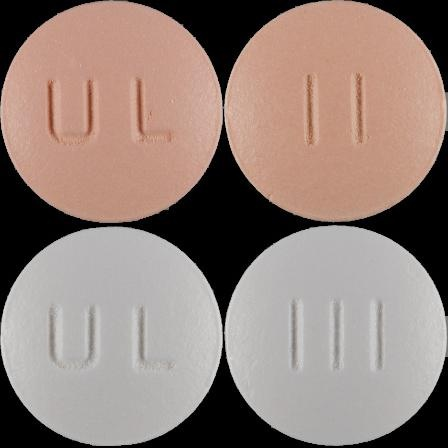29300-188: (0, 0, 224, 224)
